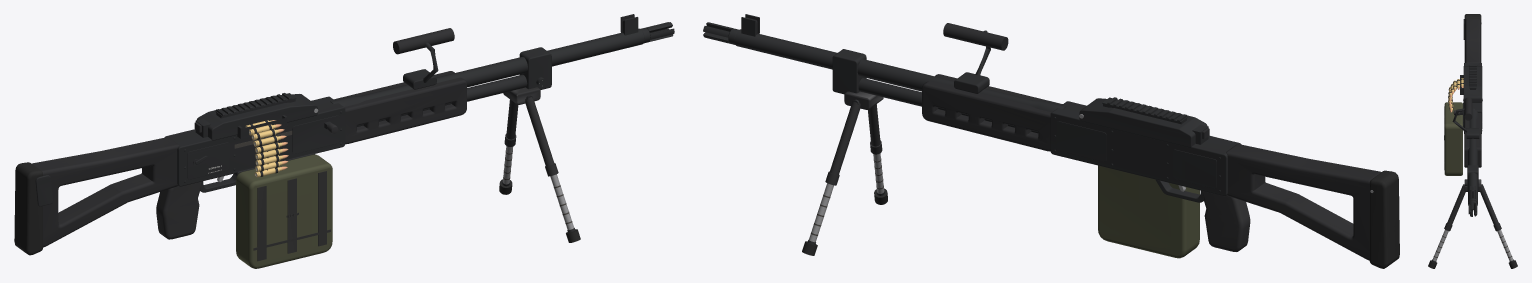
The model's file is yildirim.glb.
The picture shows the model from 3 angles, left to right: view 1: azimuth 30°, elevation 25°; view 2: azimuth 150°, elevation 25°; view 3: azimuth 270°, elevation 25°; orthographic projection. The views are drawn at different scales.
Parts seen in each view (by area): view 1: namlu, dipcik, govde, canta, iki_ayak, kabza, serit; view 2: namlu, govde, dipcik, canta, iki_ayak, kabza; view 3: namlu, canta, iki_ayak, govde, dipcik, serit.
Part boxes in pixels (box(x1,y1,x2,y2)): namlu: box(330, 14, 674, 144); dipcik: box(14, 137, 179, 255); govde: box(164, 93, 345, 192); canta: box(234, 153, 332, 268); iki_ayak: box(499, 87, 580, 242); kabza: box(156, 181, 201, 239); serit: box(245, 120, 288, 177); namlu: box(703, 14, 1066, 151); govde: box(1050, 97, 1241, 202); dipcik: box(1226, 144, 1399, 268); canta: box(1098, 165, 1199, 258); iki_ayak: box(802, 91, 887, 255); kabza: box(1202, 191, 1250, 251); namlu: box(1452, 97, 1481, 216); canta: box(1444, 102, 1463, 175); iki_ayak: box(1428, 179, 1517, 268); govde: box(1453, 63, 1482, 133); dipcik: box(1463, 14, 1481, 63); serit: box(1448, 78, 1463, 112).
Size of the model in its own units: 1.18 by 0.3724 by 0.2366.
